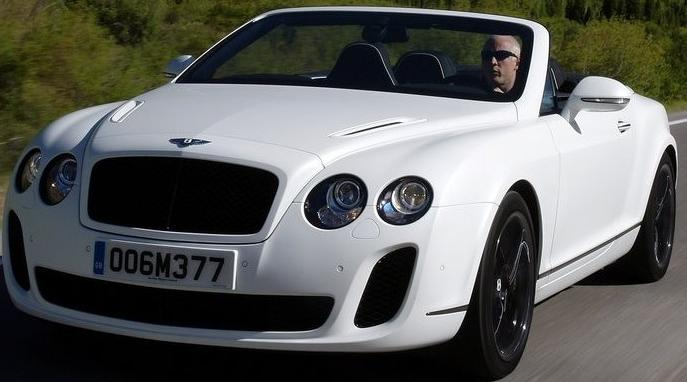front_view: (1, 128, 463, 353)
headlight: (292, 161, 443, 234)
